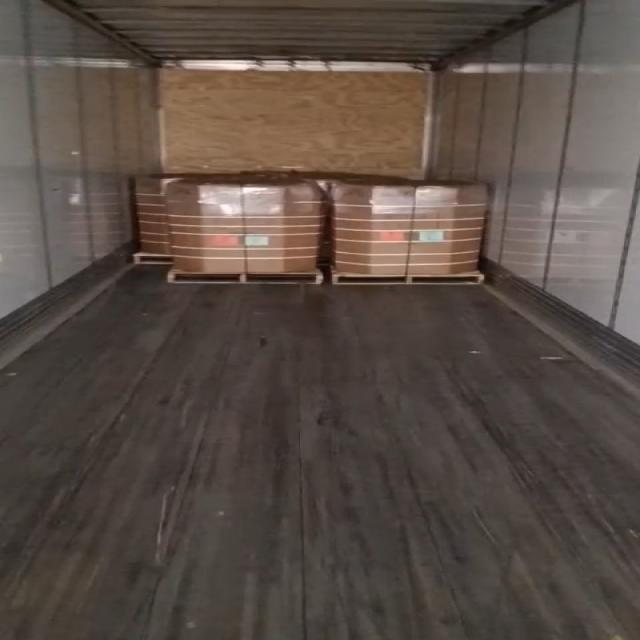pallet: (168, 272, 323, 284), (332, 274, 484, 285), (136, 253, 180, 264)
